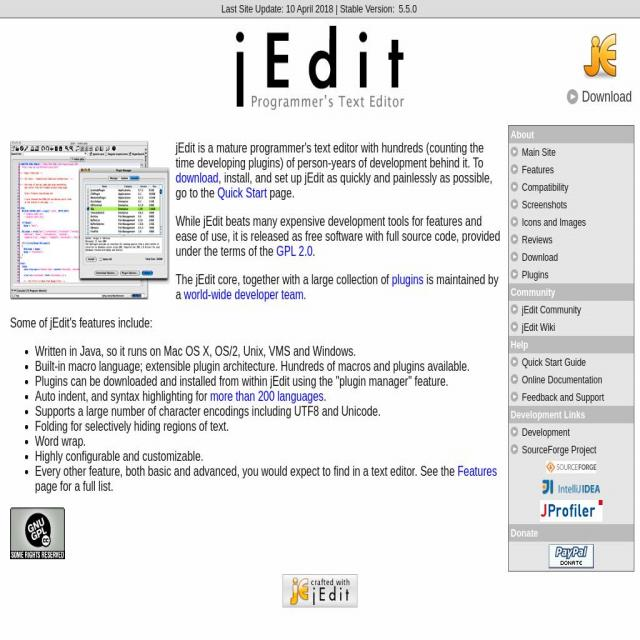download: (566, 84, 639, 114)
navigation-links: (507, 123, 635, 572)
